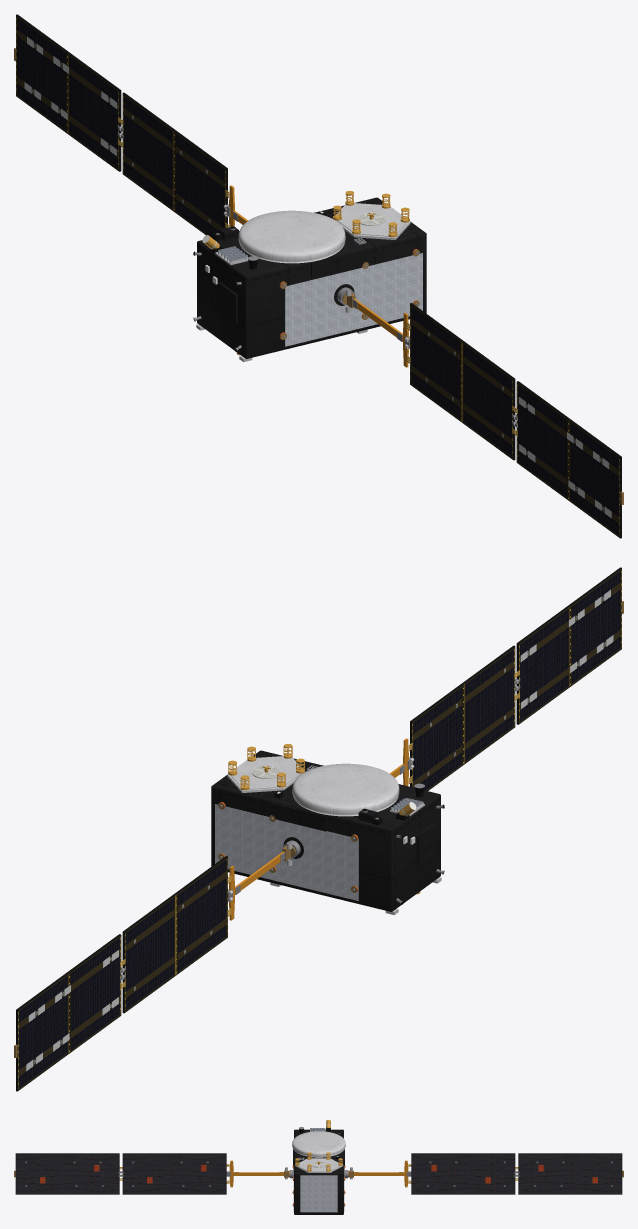
Rendered from galileo_foc.glb.
The picture shows the model from 3 angles, top to bottom: view 1: azimuth 30°, elevation 25°; view 2: azimuth 150°, elevation 25°; view 3: azimuth 270°, elevation 25°; orthographic projection. The views are drawn at different scales.
Visible parts, largest first — view 1: solar_wing_-Y, solar_wing_+Y, bus, radiators_osr, nav_antenna, sar_antenna; view 2: solar_wing_+Y, solar_wing_-Y, bus, radiators_osr, nav_antenna, sar_antenna; view 3: solar_wing_+Y, solar_wing_-Y, radiators_osr, bus, nav_antenna, sar_antenna.
Part boxes in pixels (left/top/right/bottom): solar_wing_-Y: left=345, top=288, right=623, bottom=538; solar_wing_+Y: left=14, top=14, right=248, bottom=237; bus: left=197, top=197, right=426, bottom=358; radiators_osr: left=285, top=253, right=422, bottom=346; nav_antenna: left=238, top=210, right=345, bottom=263; sar_antenna: left=332, top=191, right=410, bottom=239; solar_wing_+Y: left=14, top=841, right=292, bottom=1091; solar_wing_-Y: left=389, top=567, right=623, bottom=790; bus: left=211, top=750, right=440, bottom=911; radiators_osr: left=215, top=804, right=358, bottom=900; nav_antenna: left=292, top=763, right=399, bottom=816; sar_antenna: left=227, top=744, right=305, bottom=792; solar_wing_+Y: left=349, top=1153, right=623, bottom=1194; solar_wing_-Y: left=14, top=1153, right=288, bottom=1194; radiators_osr: left=293, top=1168, right=344, bottom=1212; bus: left=293, top=1129, right=344, bottom=1214; nav_antenna: left=292, top=1131, right=345, bottom=1157; sar_antenna: left=294, top=1152, right=343, bottom=1172.
Size of the model in its own units: 2.65 by 1.43 by 14.67.
Materials: 18 (6 with a texture image).
